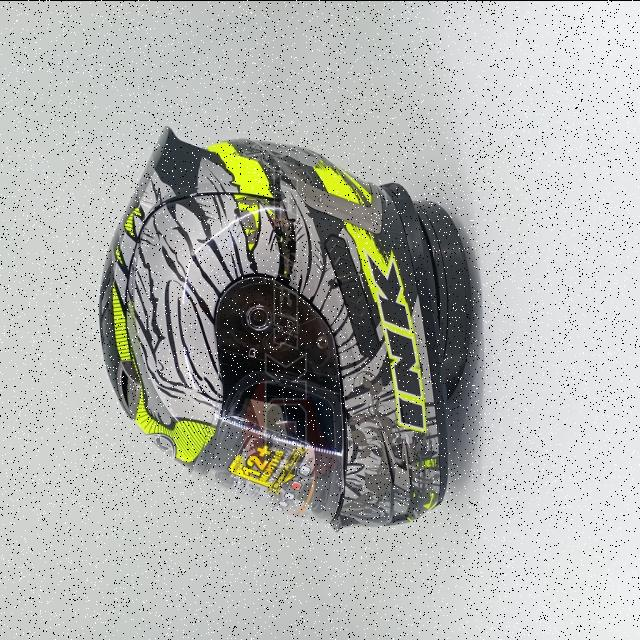Helmet: (99, 126, 476, 531)
